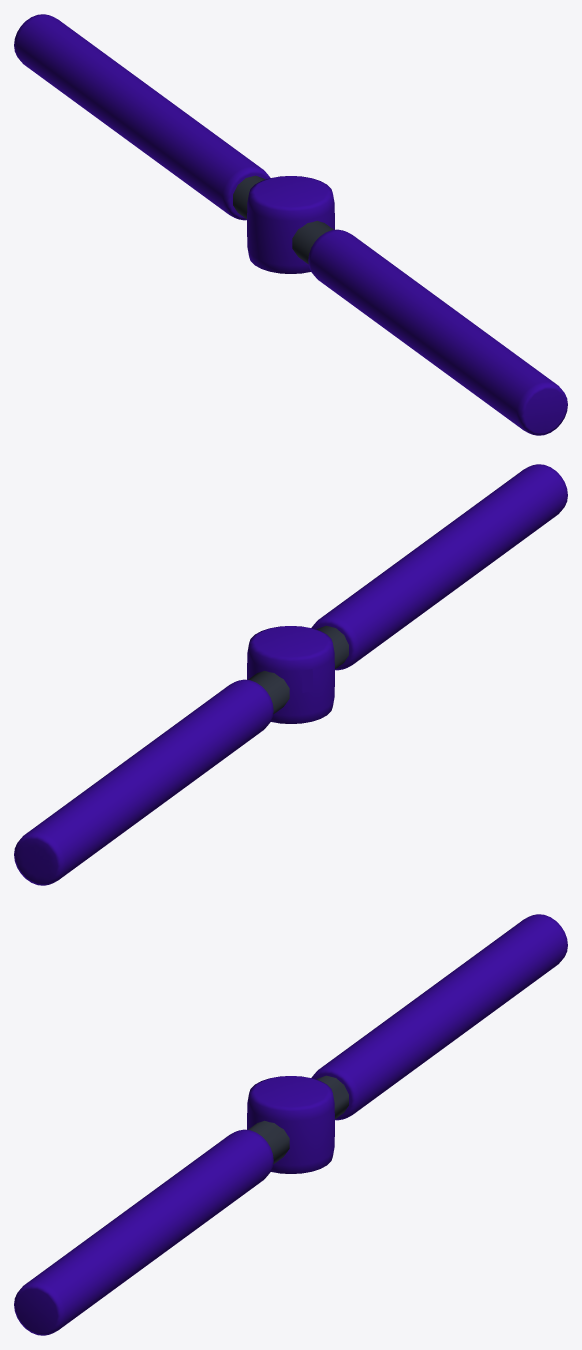
The model's file is Obstacle_Pole_Large.glb.
3 renders of one model, top to bottom at view 1: azimuth 30°, elevation 25°; view 2: azimuth 150°, elevation 25°; view 3: azimuth 330°, elevation 25°, orthographic.
Visible parts, largest first — view 1: Obstacle_Pole_Large; view 2: Obstacle_Pole_Large; view 3: Obstacle_Pole_Large.
Part boxes in pixels (x1,y1,x2,y2): Obstacle_Pole_Large: (14, 14, 567, 435); Obstacle_Pole_Large: (14, 464, 567, 885); Obstacle_Pole_Large: (14, 914, 567, 1335).
Bounding box in the file's own units: 0.7879 × 0.6749 × 9.08.
